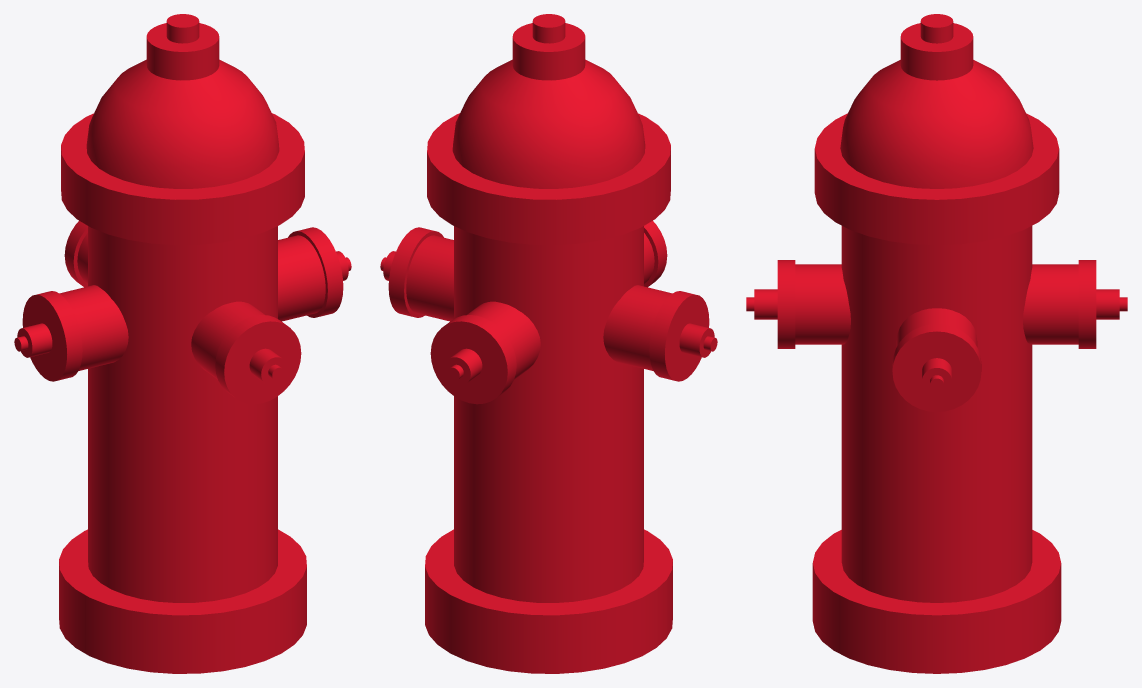
Rendered from hidratante.fbx.
3 renders of one model, left to right at view 1: azimuth 30°, elevation 25°; view 2: azimuth 150°, elevation 25°; view 3: azimuth 270°, elevation 25°, orthographic.
Parts seen in each view (by area): view 1: Cylinder, Cylinder.001, Cylinder.002; view 2: Cylinder, Cylinder.001, Cylinder.002; view 3: Cylinder, Cylinder.002, Cylinder.001.
Part boxes in pixels (x1=…): Cylinder: x1=59, y1=14, x2=306, y2=673; Cylinder.001: x1=14, y1=227, x2=351, y2=381; Cylinder.002: x1=64, y1=221, x2=301, y2=404; Cylinder: x1=425, y1=14, x2=672, y2=673; Cylinder.001: x1=380, y1=227, x2=717, y2=381; Cylinder.002: x1=430, y1=221, x2=667, y2=404; Cylinder: x1=812, y1=14, x2=1061, y2=673; Cylinder.002: x1=746, y1=260, x2=1127, y2=348; Cylinder.001: x1=892, y1=308, x2=981, y2=411.
Size of the model in its own units: 26.76 by 46.55 by 26.76.
